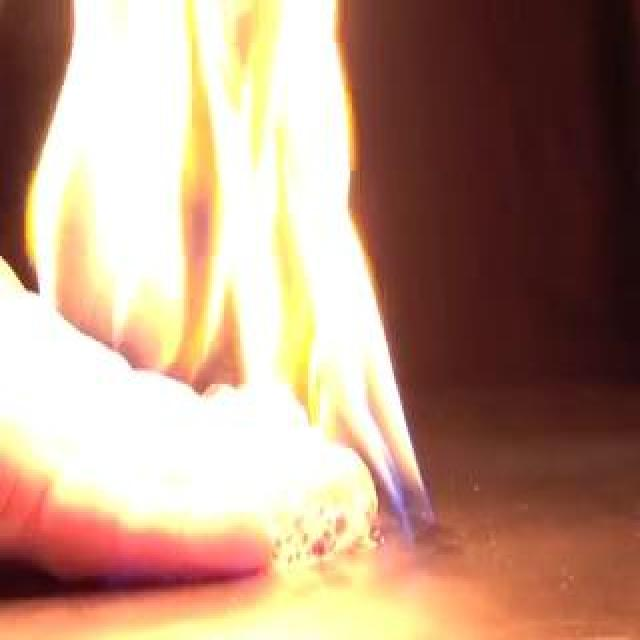Fire: (9, 3, 423, 557)
